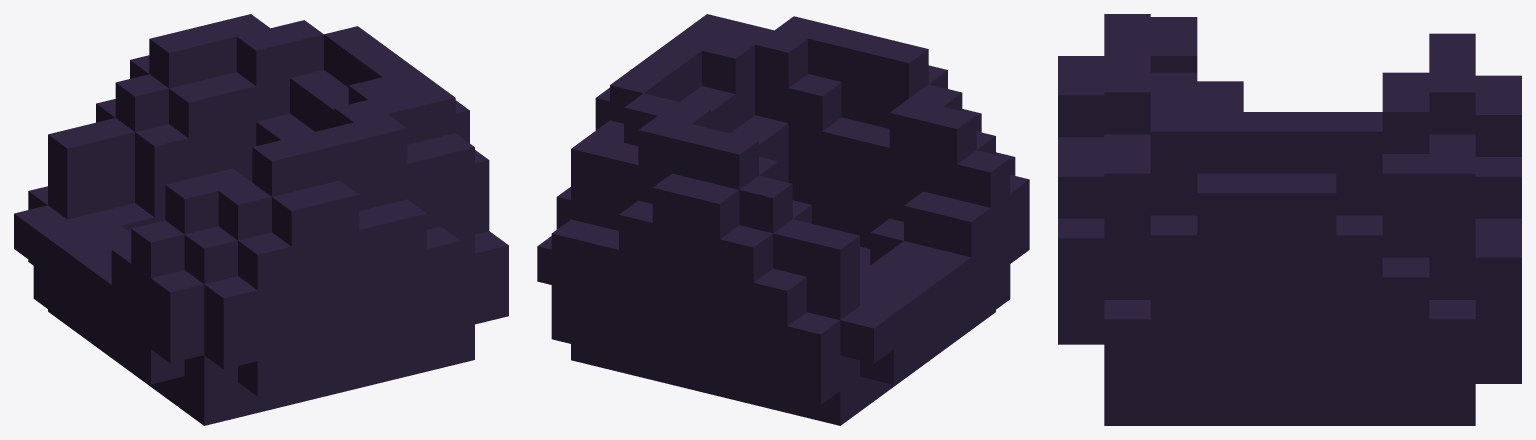
File: hub-beanbag-fine.obj
3 renders of one model, left to right at view 1: azimuth 30°, elevation 25°; view 2: azimuth 150°, elevation 25°; view 3: azimuth 270°, elevation 25°, orthographic. The views are drawn at different scales.
Parts seen in each view (by area): view 1: hub-beanbag-fine; view 2: hub-beanbag-fine; view 3: hub-beanbag-fine.
Boxes of the visible parts, box(x1,y1,x2,y2) form: hub-beanbag-fine: box(14, 14, 508, 425); hub-beanbag-fine: box(537, 14, 1029, 425); hub-beanbag-fine: box(1058, 14, 1521, 425).
Size of the model in its own units: 10 by 7 by 10.
1 material, 1 textured.
